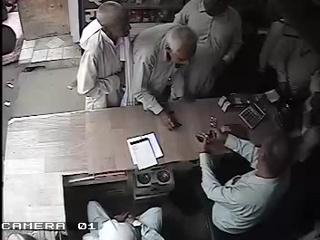Normal: (197, 104, 311, 240), (120, 24, 198, 131), (172, 0, 244, 100), (82, 200, 166, 240)
shoplifting: (76, 1, 132, 111)
